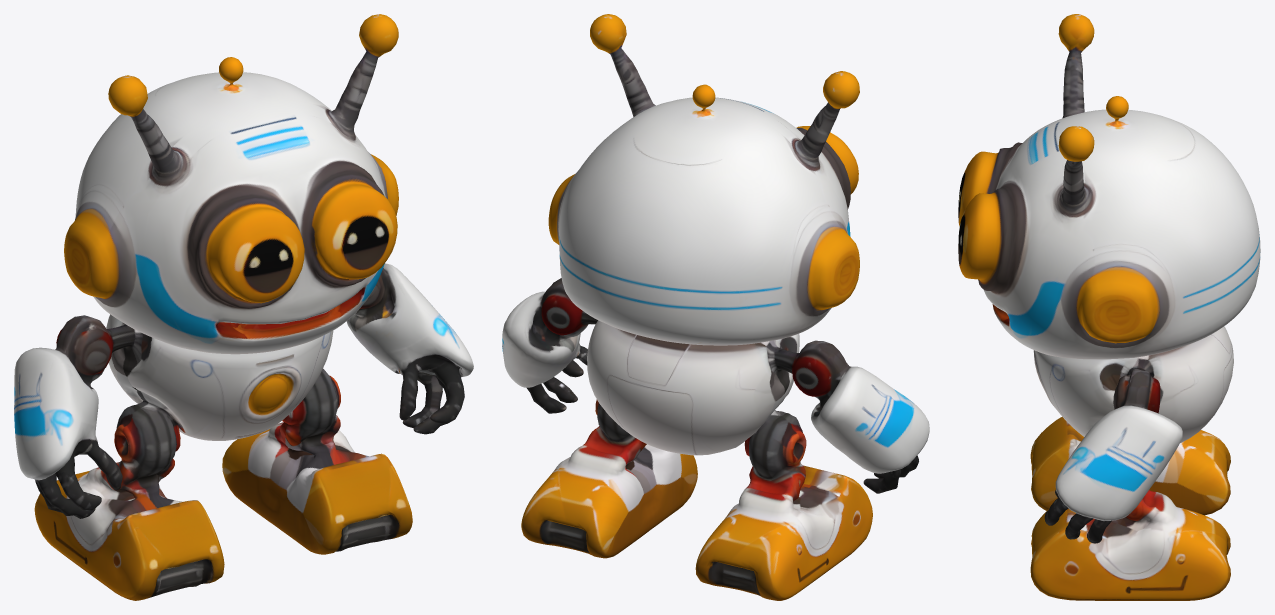
File: cute_robot.glb
The picture shows the model from 3 angles, left to right: view 1: azimuth 30°, elevation 25°; view 2: azimuth 150°, elevation 25°; view 3: azimuth 270°, elevation 25°; orthographic projection. The views are drawn at different scales.
Visible parts, largest first — view 1: Object_2; view 2: Object_2; view 3: Object_2.
Part boxes in pixels (box(x1,y1,x2,y2)): Object_2: box(14, 14, 473, 600); Object_2: box(502, 14, 929, 600); Object_2: box(958, 14, 1260, 600).
Bounding box in the file's own units: 1.66 × 1.9 × 1.11.
1 material, 1 textured.
